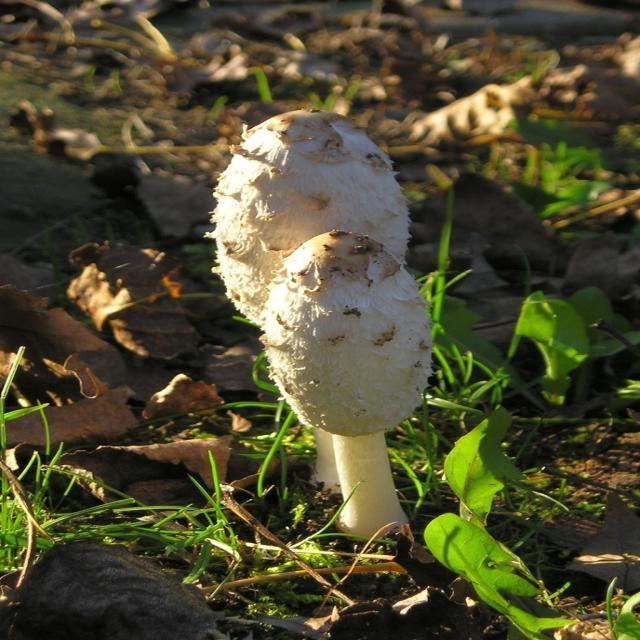Mushroom: (257, 224, 428, 542)
